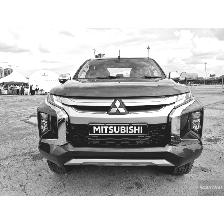NON-EV: (36, 51, 206, 177)
